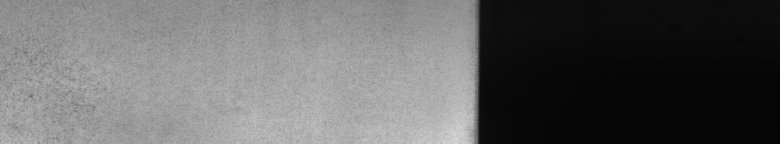ib: (16, 51, 81, 115)
